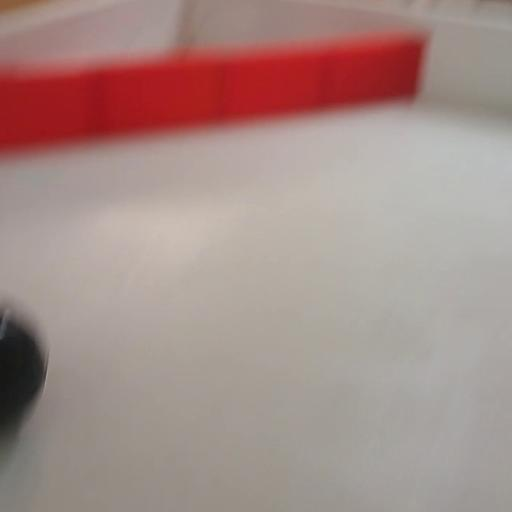dead: (0, 296, 49, 443)
